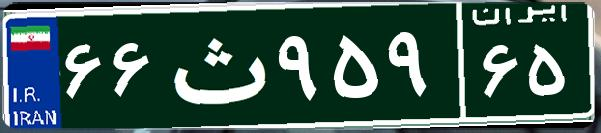5: (330, 28, 385, 110), (525, 38, 570, 115)
6: (57, 26, 110, 107), (475, 38, 525, 113), (110, 28, 158, 105)
9: (385, 28, 445, 110), (273, 28, 330, 110)
ث: (158, 15, 273, 115)
